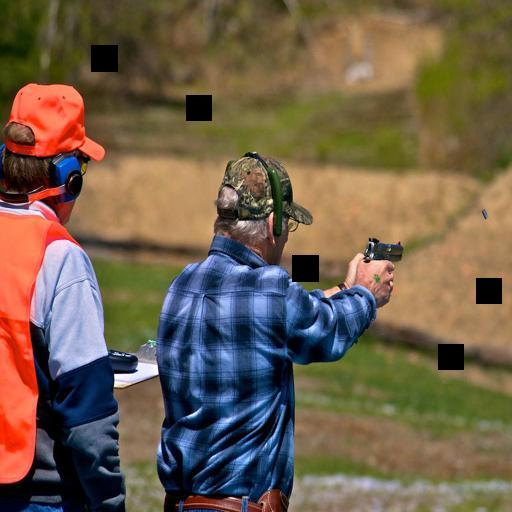Handgun: (351, 227, 407, 278)
